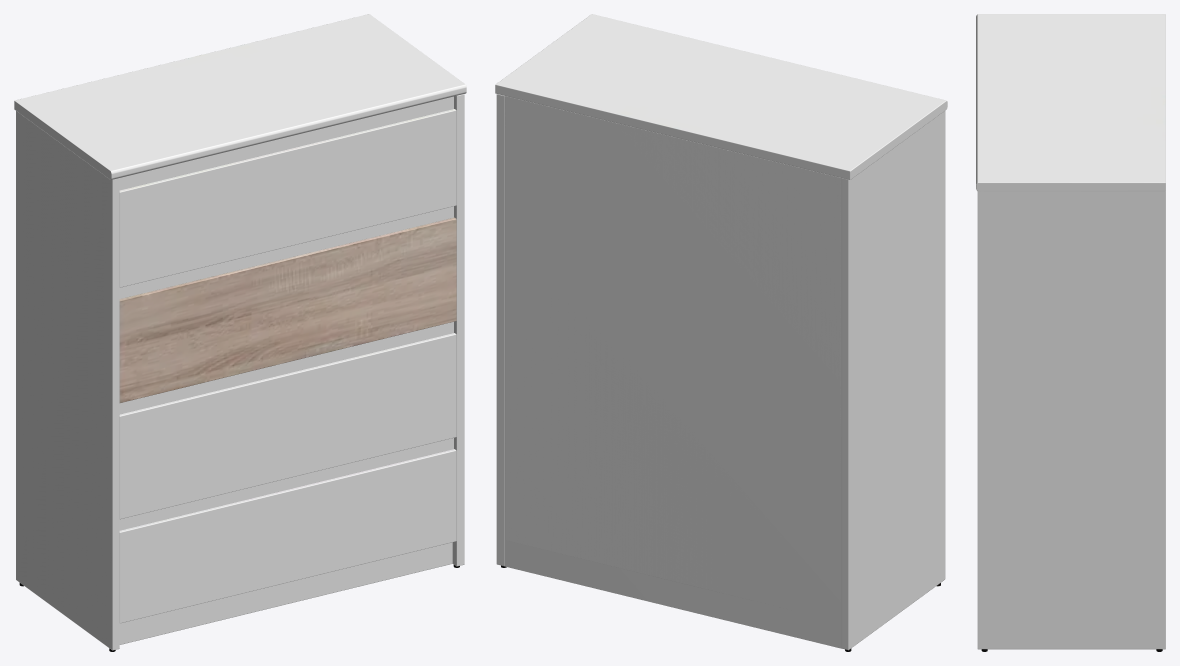
Rendered from abo-B07JWP2Y5K.glb.
The picture shows the model from 3 angles, left to right: view 1: azimuth 30°, elevation 25°; view 2: azimuth 150°, elevation 25°; view 3: azimuth 270°, elevation 25°; orthographic projection. The views are drawn at different scales.
Size of the model in its own units: 0.8 by 1.04 by 0.38.
1 material, 1 textured.
